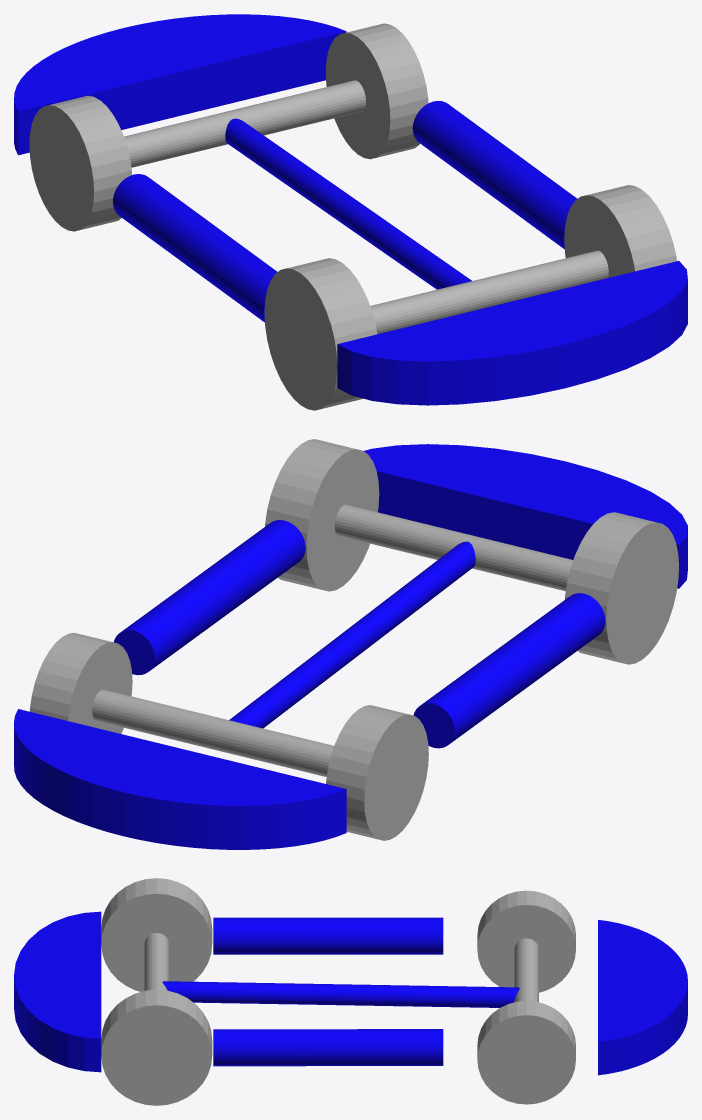
File: carro_azul_final_final.fbx
The picture shows the model from 3 angles, top to bottom: view 1: azimuth 30°, elevation 25°; view 2: azimuth 150°, elevation 25°; view 3: azimuth 270°, elevation 25°; orthographic projection. The views are drawn at different scales.
Visible parts, largest first — view 1: estrutura_a_volta.003, estrutura_a_volta, rodas tras.002, rodas frente.001, rodas frente.002, estrutura_a_volta.002, estrutura_a_volta.001, eixo meio, rodas frente, rodas tras.001, rodas tras; view 2: estrutura_a_volta, estrutura_a_volta.003, rodas tras.002, rodas tras.001, estrutura_a_volta.001, rodas frente.001, estrutura_a_volta.002, eixo meio, rodas frente, rodas tras, rodas frente.002; view 3: estrutura_a_volta.003, estrutura_a_volta, rodas tras.001, rodas tras.002, estrutura_a_volta.001, estrutura_a_volta.002, rodas frente.002, eixo meio, rodas frente.001, rodas frente, rodas tras.
Part boxes in pixels (x1,y1,x2,y2): estrutura_a_volta.003: (337,261,687,405); estrutura_a_volta: (14,14,346,155); rodas tras.002: (264,258,377,410); rodas frente.001: (29,95,132,231); rodas frente.002: (325,23,428,159); estrutura_a_volta.002: (412,101,577,248); estrutura_a_volta.001: (113,174,277,322); eixo meio: (225,118,471,289); rodas frente: (124,80,365,167); rodas tras.001: (564,185,676,277); rodas tras: (370,250,608,334); estrutura_a_volta: (14,709,346,849); estrutura_a_volta.003: (364,444,687,588); rodas tras.002: (564,512,678,664); rodas tras.001: (265,439,379,591); estrutura_a_volta.001: (413,593,605,748); rodas frente.001: (326,705,428,840); estrutura_a_volta.002: (114,520,305,675); eixo meio: (229,541,475,728); rodas frente: (92,689,333,776); rodas tras: (334,504,573,591); rodas frente.002: (29,632,132,733); estrutura_a_volta.003: (14,911,101,1072); estrutura_a_volta: (598,920,687,1075); rodas tras.001: (101,989,212,1105); rodas tras.002: (101,878,212,991); estrutura_a_volta.001: (213,917,443,954); estrutura_a_volta.002: (213,1029,443,1066); rodas frente.002: (477,1001,575,1104); eixo meio: (162,981,519,1007); rodas frente.001: (477,890,575,992); rodas frente: (514,938,538,1002); rodas tras: (144,933,168,990).
Bounding box in the file's own units: 488 × 180 × 1093.
